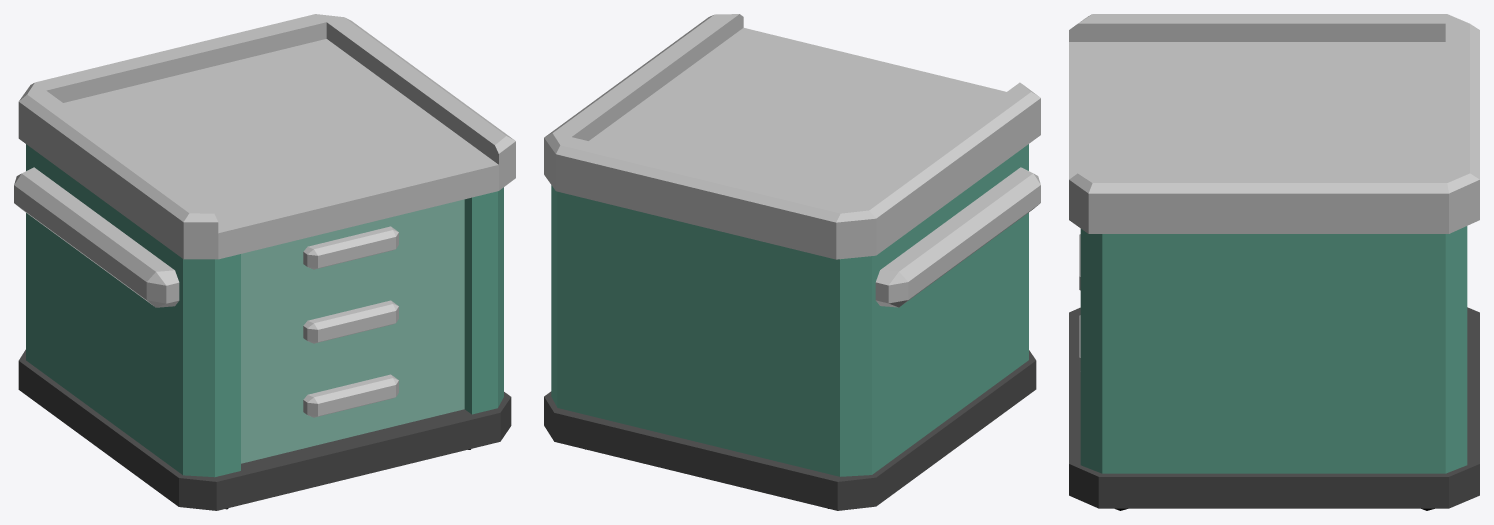
Rendered from Drawers 01.fbx.
3 renders of one model, left to right at view 1: azimuth 30°, elevation 25°; view 2: azimuth 150°, elevation 25°; view 3: azimuth 270°, elevation 25°, orthographic. The views are drawn at different scales.
Parts seen in each view (by area): view 1: Drawers_01; view 2: Drawers_01; view 3: Drawers_01.
Boxes of the visible parts, bbox=[...] form: Drawers_01: bbox=[14, 14, 515, 510]; Drawers_01: bbox=[544, 14, 1040, 510]; Drawers_01: bbox=[1069, 14, 1479, 510].
Bounding box in the file's own units: 90.33 × 76.38 × 83.77.
